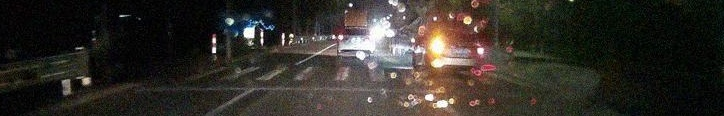L_light: (430, 40, 445, 53), (337, 34, 349, 40)
R_light: (476, 45, 484, 55), (361, 35, 373, 41), (450, 26, 460, 29)
T_light: (351, 28, 360, 30)
night-left: (428, 23, 485, 72)
night-no: (337, 26, 375, 57)
